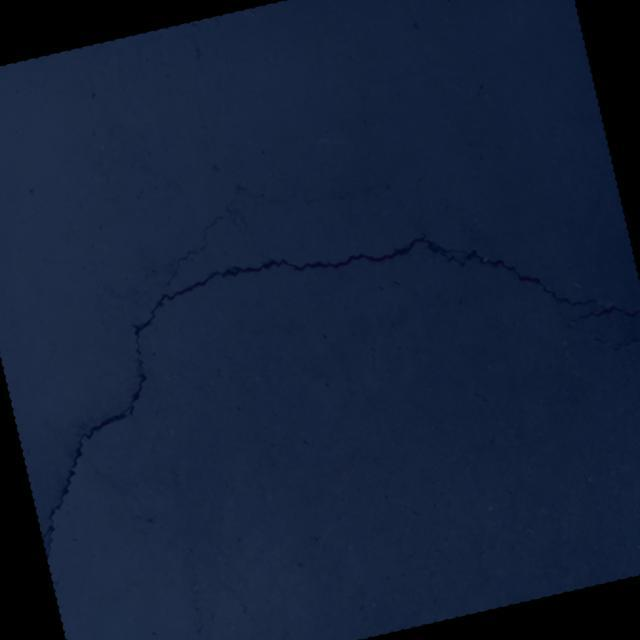crack: (0, 176, 640, 557), (148, 144, 418, 284), (611, 332, 640, 351)
